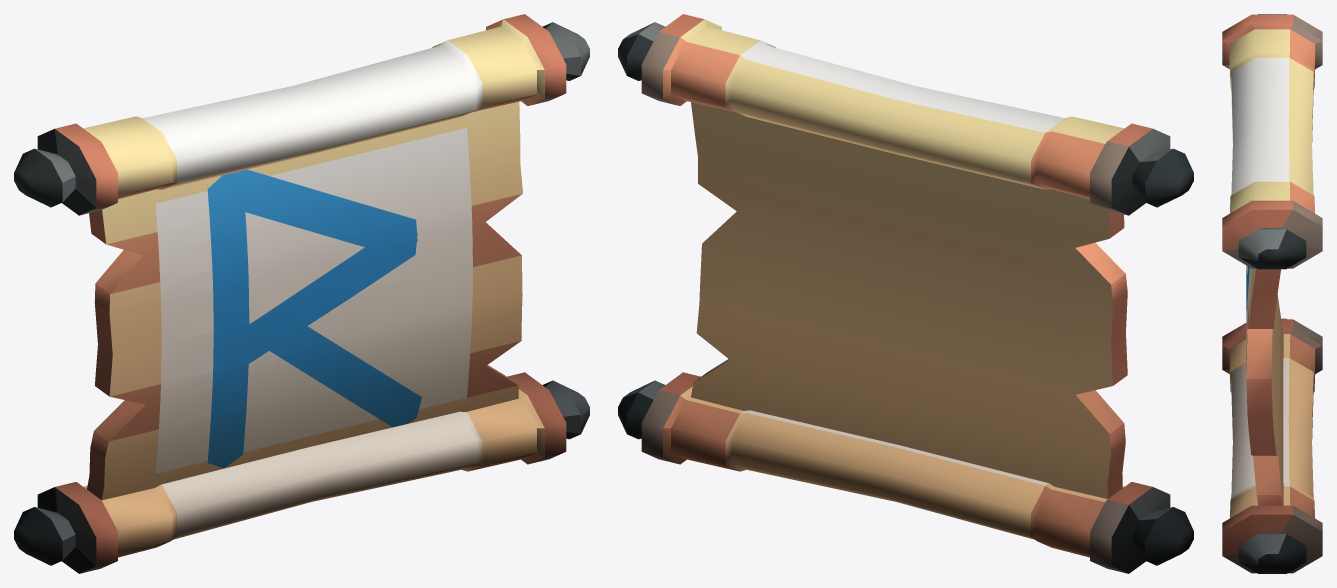
File: scroll_cobalt_raidho.glb
3 renders of one model, left to right at view 1: azimuth 30°, elevation 25°; view 2: azimuth 150°, elevation 25°; view 3: azimuth 270°, elevation 25°, orthographic. The views are drawn at different scales.
Parts seen in each view (by area): view 1: Item; view 2: Item; view 3: Item.
Part boxes in pixels (x1,y1,x2,y2): Item: [14, 14, 589, 573]; Item: [618, 14, 1193, 573]; Item: [1222, 14, 1322, 573].
Size of the model in its own units: 0.88 by 0.64 by 0.1595.
2 materials, 2 textured.
